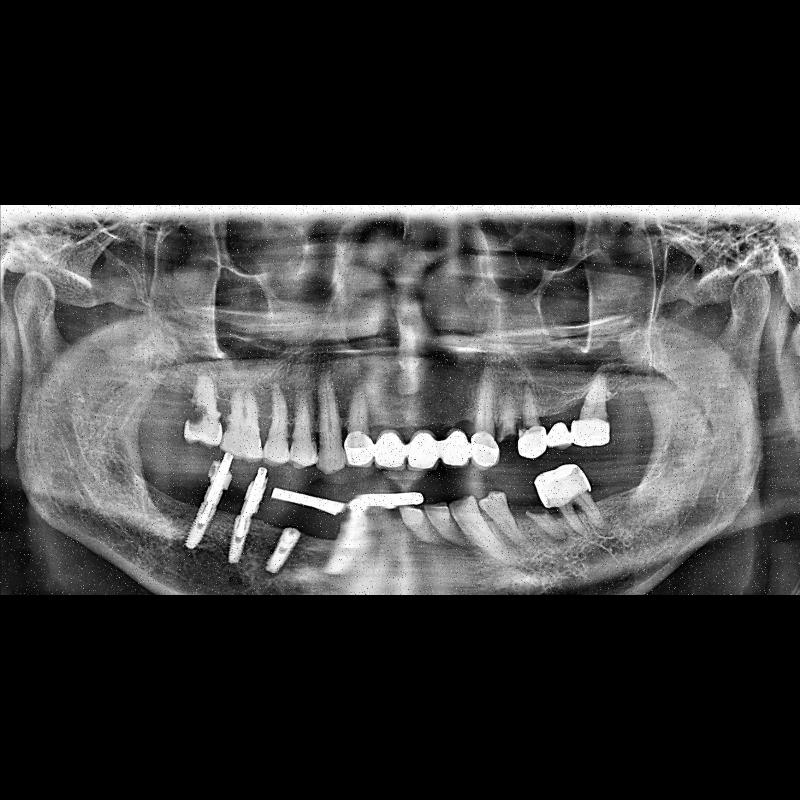osstem: (214, 514, 268, 570), (256, 525, 308, 579), (176, 500, 218, 556)
